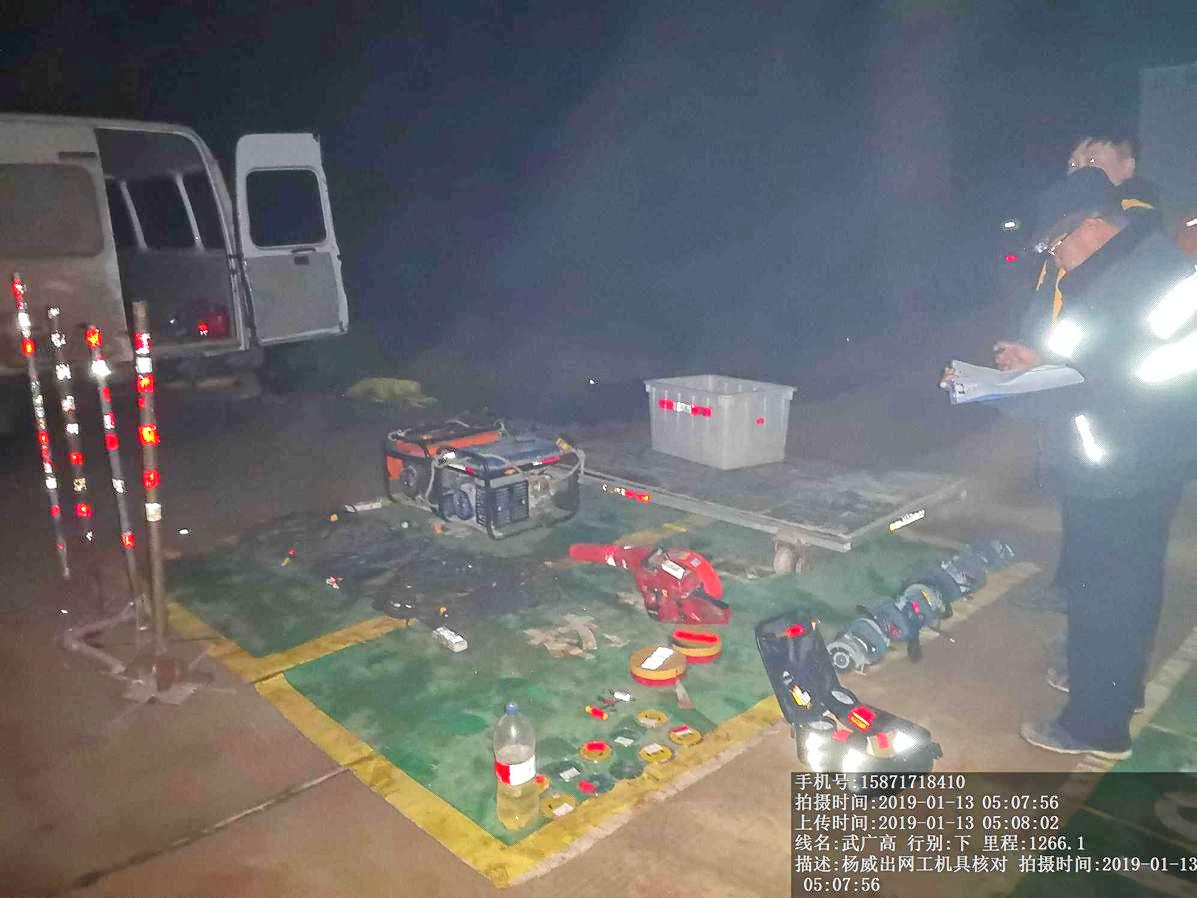DJ: (438, 437, 580, 538)
GFJ: (569, 538, 731, 629)
GJB: (749, 625, 940, 772)
JC: (628, 645, 688, 684), (674, 630, 723, 663)
T: (642, 366, 800, 473)
